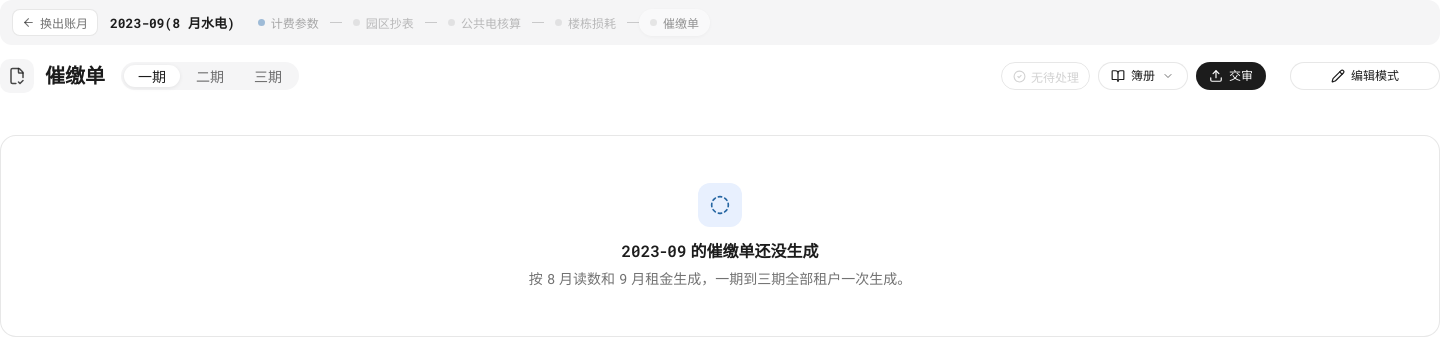
Scenario: P4-D4 本月未生成(画布 05-B) › 编辑态:没有流内灰条、没有表;卡里空状态带「生成本月」;标题旁不贴「本月未生成」(图上没有);不出页签
Expected: the element with class "fp-empty" is shown, [529,183,911,287]
Click the button with class "fp-emb" at (1365, 76), box [1290,62,1440,90]
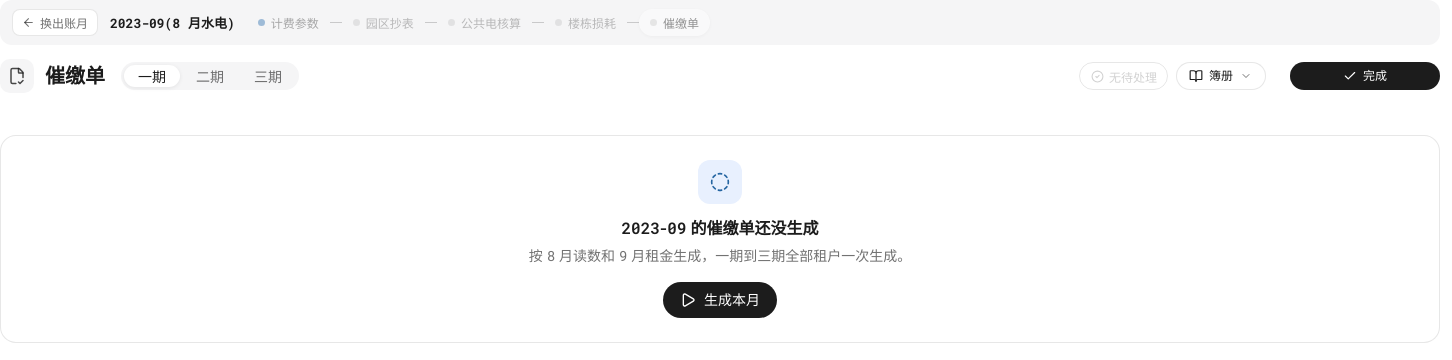
Expected: the text "2023-09 的催缴单还没生成" is shown, [622,216,819,240]
Expected: the buttons read "生成本月", in this order, [663,282,777,318]
